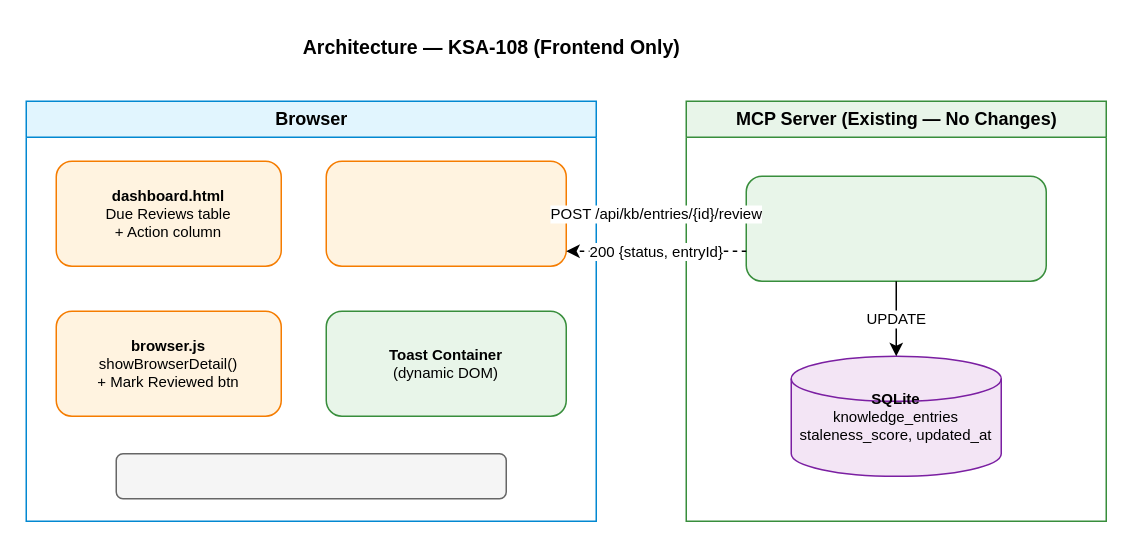
This 1133x548 diagram has some shape labels left out. Each missing label, with the centre of its shape:
dashboard.js markReviewed() showToast() decrementStaleCount(): the point at 445,213
ui-tokens.css + ux-components.css: the point at 310,475
UxRoutes POST /api/kb/entries/{id}/review handleMarkReviewed(): the point at 895,228
